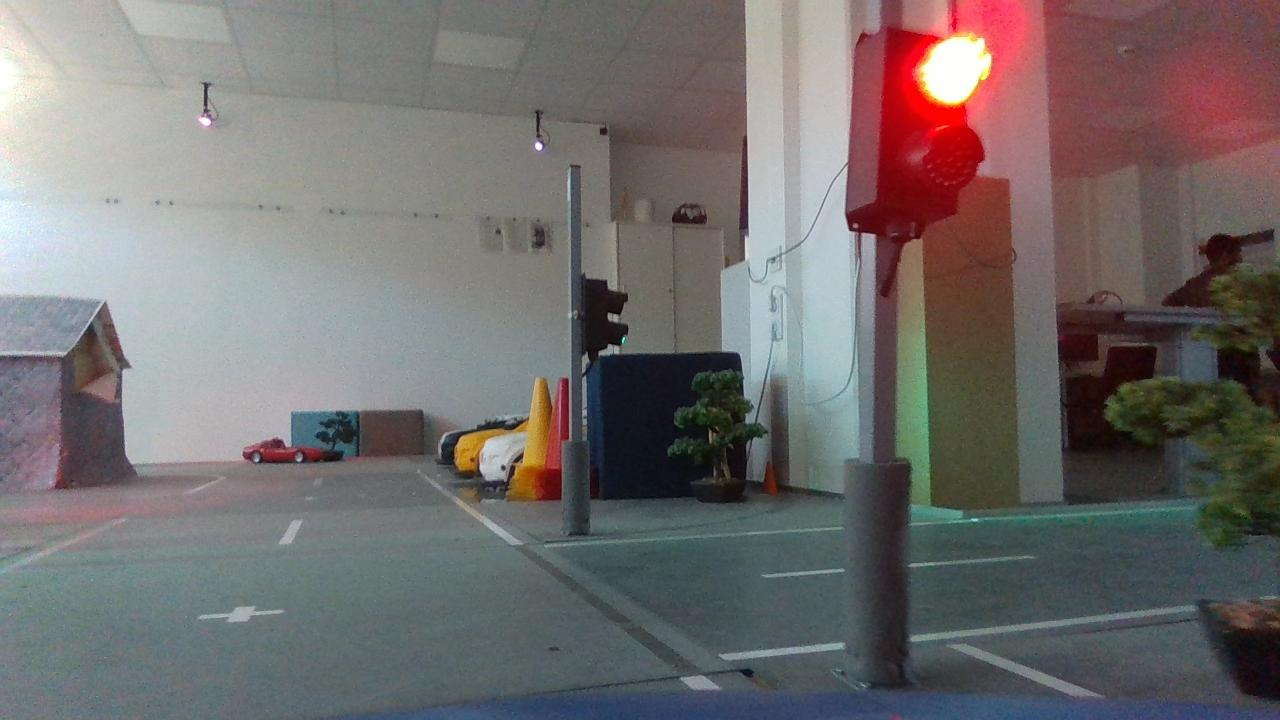traffic_light_red: (831, 12, 1008, 266)
